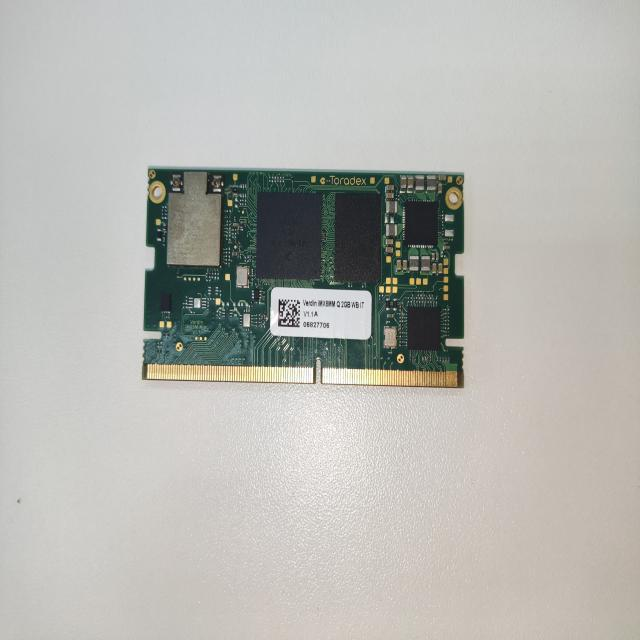som: (128, 145, 477, 400)
